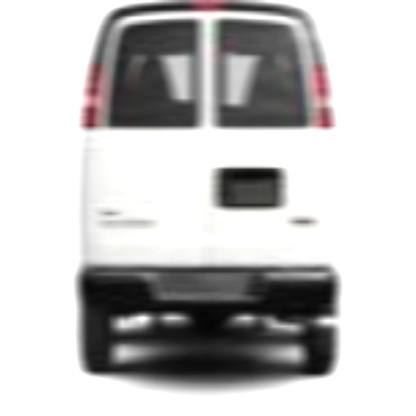Vehicle: (71, 4, 354, 396)
